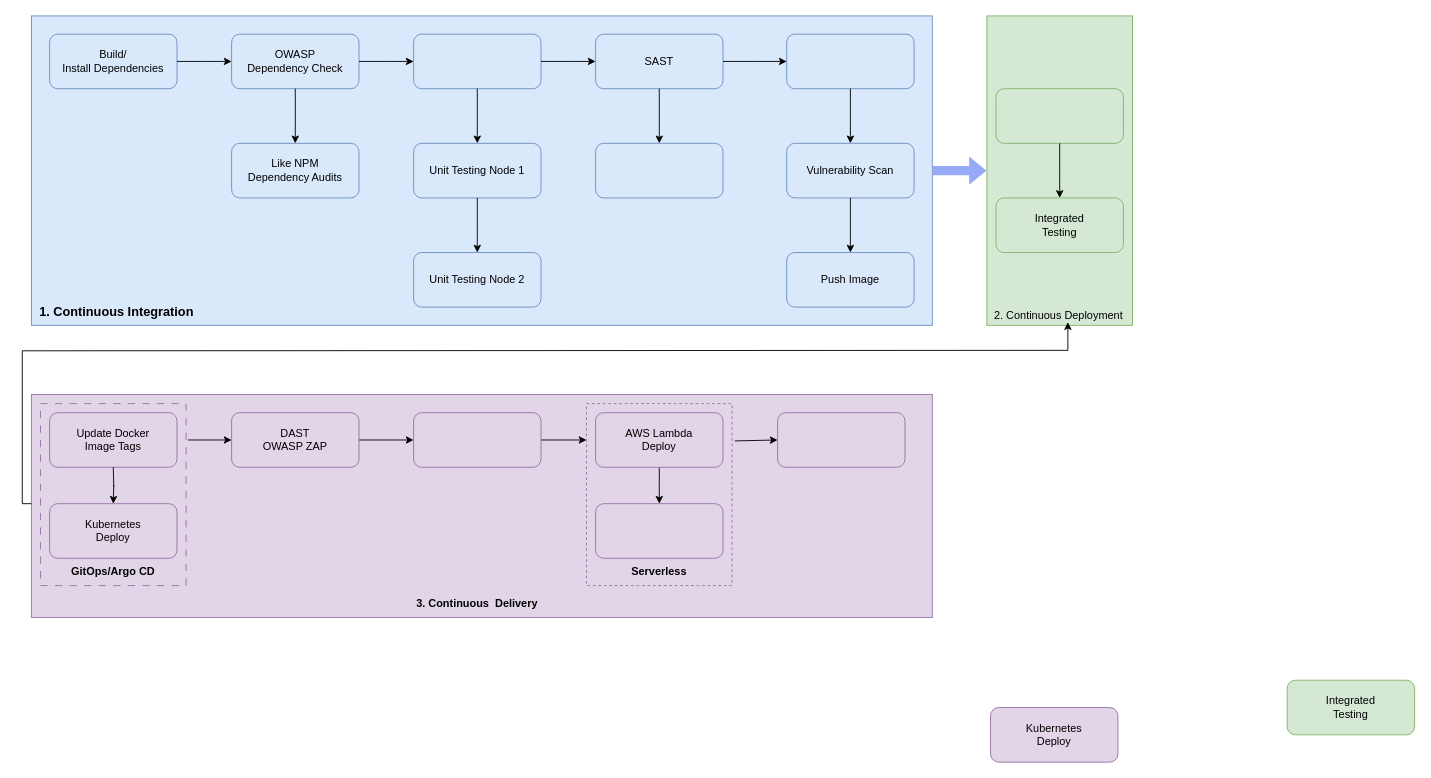
This 1431x778 diagram has some shape labels left out. The box of each missing label's shape, as (x1, y1, x2, y2) in pixels:
Approval Stage: (413, 412, 541, 467)
AWS Lambda Testing/Invocation: (777, 412, 905, 467)
Code Coverage: (413, 33, 541, 89)
Dockerizing Build: (786, 33, 914, 89)
Quality Gates: (595, 142, 723, 198)
Update Lambda Configurations: (595, 503, 723, 558)
VM/EC2 Deploy: (995, 88, 1123, 143)
